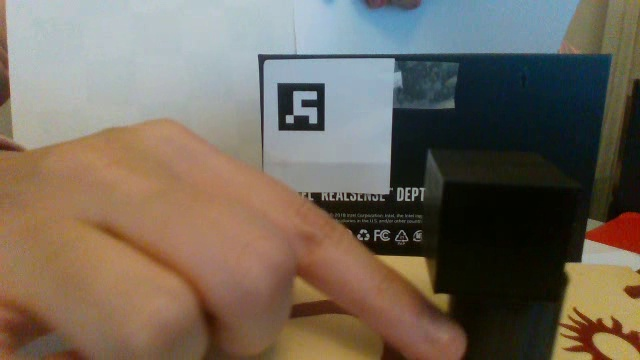cube: (419, 142, 584, 299)
cylindre: (441, 256, 574, 360)
